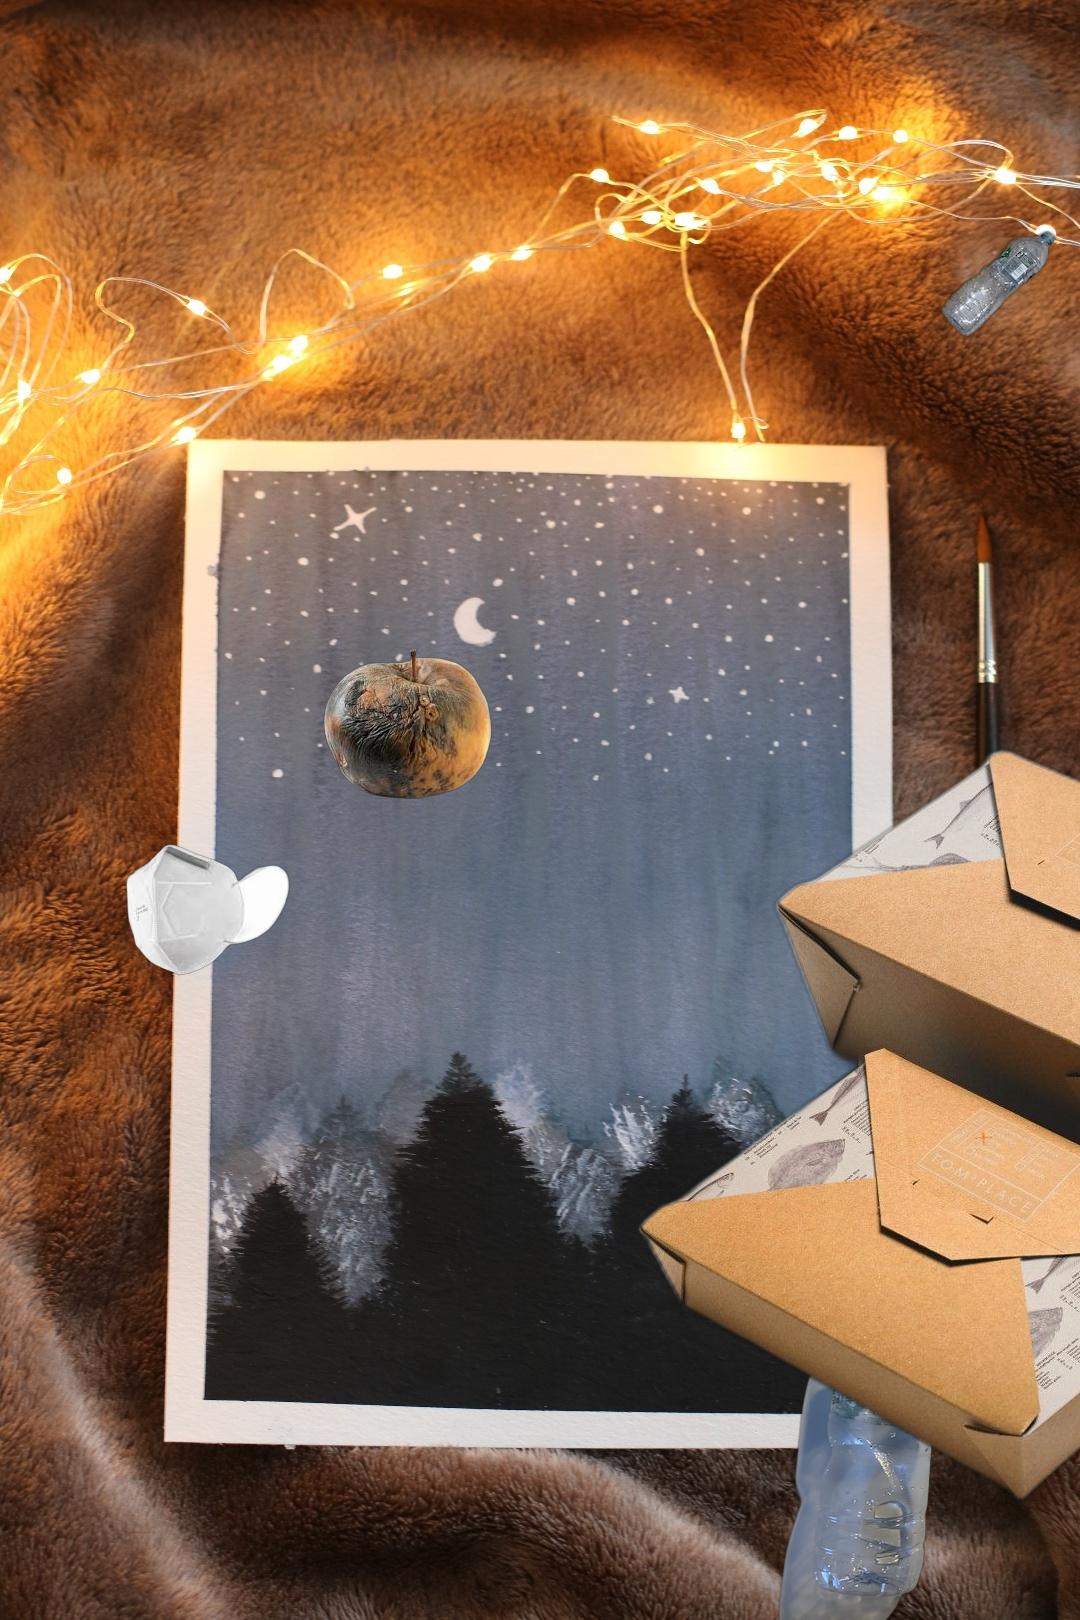biological: (321, 646, 494, 802)
plastic-bottles: (775, 1235, 944, 1620), (934, 227, 1060, 340)
trash: (124, 843, 292, 978)
trashbox-cardboard: (626, 741, 1080, 1508)
